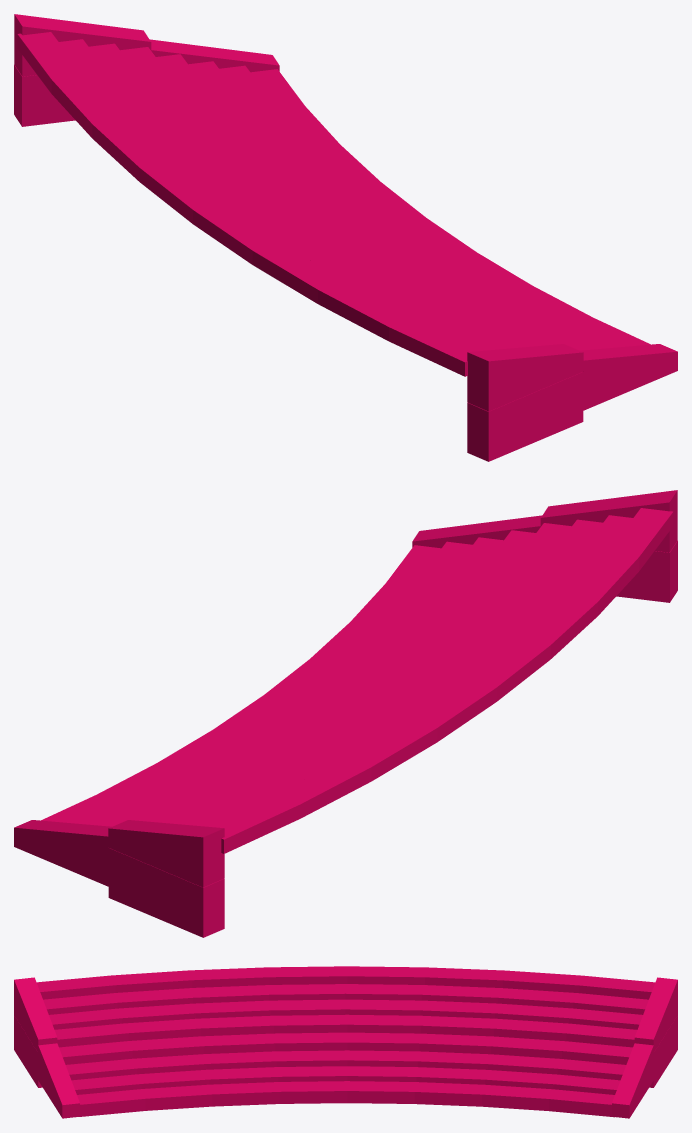
Rendered from Stairs_03_Lod0.fbx.
The picture shows the model from 3 angles, top to bottom: view 1: azimuth 30°, elevation 25°; view 2: azimuth 150°, elevation 25°; view 3: azimuth 270°, elevation 25°; orthographic projection. The views are drawn at different scales.
Visible parts, largest first — view 1: Stairs_03_Lod0; view 2: Stairs_03_Lod0; view 3: Stairs_03_Lod0.
Part boxes in pixels (box(x1,y1,x2,y2)): Stairs_03_Lod0: box(14, 14, 677, 461); Stairs_03_Lod0: box(14, 490, 677, 937); Stairs_03_Lod0: box(14, 966, 677, 1118).
Bounding box in the file's own units: 1166 × 398 × 3408.
